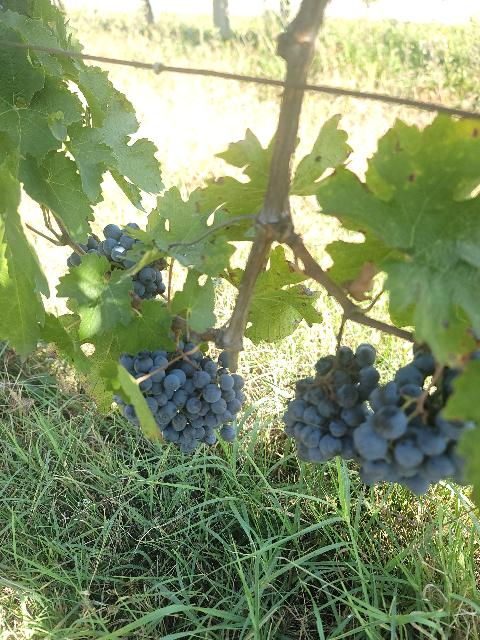grapes: (351, 350, 471, 494), (119, 334, 245, 454), (284, 344, 379, 462), (81, 224, 136, 269), (132, 258, 168, 300)
